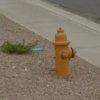Hydrant: (52, 19, 79, 81)
